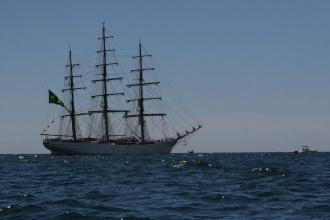fanchuan: (36, 20, 210, 158)
